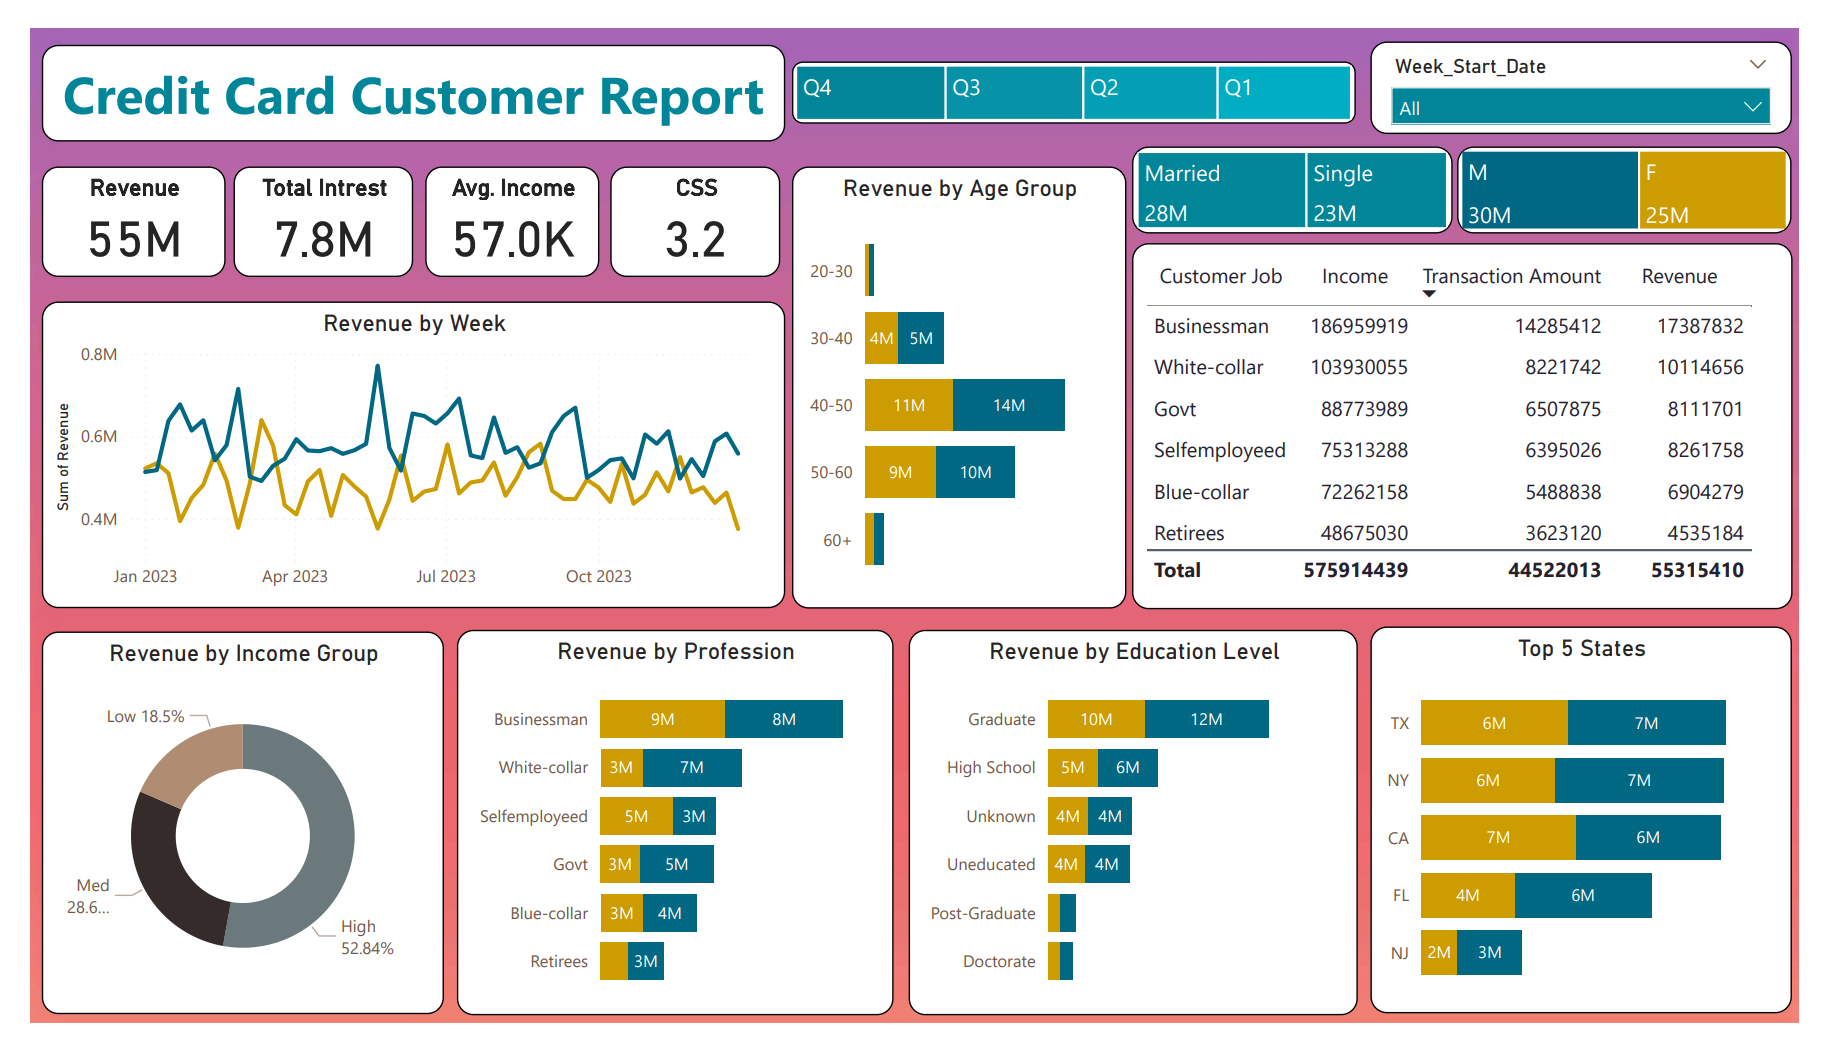

The page's visual inventory and layout, read from the dashboard file:
{"tool":"powerbi","page":{"name":"CC Customer","canvas":[1280,720],"ordinal":2},"visuals":[{"type":"textbox","box":[8.2,12.3,537.9,70],"z":0},{"type":"donutChart","title":"Revenue by Income Group","fields":{"Category":["customer.IncomeGroup","customer.Gender"],"Y":["Sum(credit_card.Revenue)"]},"box":[8.2,436.4,290.9,277.2],"z":1000},{"type":"tableEx","fields":{"Values":["customer.Customer_Job","Sum(customer.Income)","Sum(credit_card.Total_Trans_Amt)","Sum(credit_card.Revenue)"]},"box":[797.3,155.1,477.5,264.8],"z":2000},{"type":"card","title":"Revenue","fields":{"Values":["Sum(credit_card.Revenue)"]},"box":[8.4,100.1,132.7,79.6],"z":3000},{"type":"card","title":"Total Intrest","fields":{"Values":["Sum(credit_card.Interest_Earned)"]},"box":[147.2,99.9,130.3,79.6],"z":4000},{"type":"card","title":"Avg. Income","fields":{"Values":["Avg(customer.Income)"]},"box":[285.4,100.2,126.2,79.6],"z":5000},{"type":"card","title":"CSS","fields":{"Values":["Avg(customer.Cust_Satisfaction_Score)"]},"box":[419.9,100.2,123.5,79.6],"z":6000},{"type":"slicer","fields":{"Values":["credit_card.Week_Start_Date"]},"box":[970.2,9.6,304.6,67],"z":7000},{"type":"treemap","fields":{"Group":["credit_card.Qtr"],"Values":["Avg(credit_card.Client_Num)"]},"box":[551.6,24.7,407.5,45.3],"z":8000},{"type":"lineChart","title":"Revenue by Week","fields":{"Series":["customer.Gender"],"Y":["Sum(credit_card.Revenue)"],"Category":["credit_card.Week_Start_Date.Variation.Date Hierarchy.Year","credit_card.Week_Start_Date.Variation.Date Hierarchy.Month","credit_card.Week_Start_Date.Variation.Date Hierarchy.Day"]},"box":[8.2,197.6,537.9,222.3],"z":9000},{"type":"treemap","fields":{"Group":["customer.Gender"],"Values":["Sum(credit_card.Revenue)"]},"box":[1033.3,85.1,241.5,63.1],"z":10000},{"type":"barChart","title":"Revenue by Age Group","fields":{"Category":["customer.AgeGroup"],"Y":["Sum(credit_card.Revenue)"],"Series":["customer.Gender"]},"box":[551.6,100.2,241.5,319.7],"z":11000},{"type":"barChart","title":"Revenue by Profession","fields":{"Category":["customer.Customer_Job"],"Y":["Sum(credit_card.Revenue)"],"Series":["customer.Gender"]},"box":[308.7,435,315.6,278.6],"z":12000},{"type":"barChart","title":"Revenue by Education Level","fields":{"Category":["customer.Education_Level"],"Y":["Sum(credit_card.Revenue)"],"Series":["customer.Gender"]},"box":[635.3,435,325.2,278.6],"z":13000},{"type":"barChart","title":"Top 5 States","fields":{"Category":["customer.state_cd"],"Y":["Sum(credit_card.Revenue)"],"Series":["customer.Gender"]},"box":[970.2,433.6,304.6,279.9],"z":14000},{"type":"treemap","fields":{"Group":["customer.Marital_Status"],"Values":["Sum(credit_card.Revenue)"]},"box":[797.3,85.1,231.9,63.1],"z":15000}]}

Visuals, with their boxes in screenshot pixels (x1, y1, x2, y2), scaled from the page's 1280x720 canvas onto the 1827x1047 screenshot:
textbox: BBox(12, 18, 779, 120)
"Revenue by Income Group" donutChart: BBox(12, 635, 427, 1038)
tableEx - customer.Customer_Job x Sum(customer.Income): BBox(1138, 226, 1820, 611)
"Revenue" card: BBox(12, 146, 201, 261)
"Total Intrest" card: BBox(210, 145, 396, 261)
"Avg. Income" card: BBox(407, 146, 587, 261)
"CSS" card: BBox(599, 146, 776, 261)
slicer - credit_card.Week_Start_Date: BBox(1385, 14, 1820, 111)
treemap - credit_card.Qtr x Avg(credit_card.Client_Num): BBox(787, 36, 1369, 102)
"Revenue by Week" lineChart: BBox(12, 287, 779, 611)
treemap - customer.Gender x Sum(credit_card.Revenue): BBox(1475, 124, 1820, 216)
"Revenue by Age Group" barChart: BBox(787, 146, 1132, 611)
"Revenue by Profession" barChart: BBox(441, 633, 891, 1038)
"Revenue by Education Level" barChart: BBox(907, 633, 1371, 1038)
"Top 5 States" barChart: BBox(1385, 631, 1820, 1038)
treemap - customer.Marital_Status x Sum(credit_card.Revenue): BBox(1138, 124, 1469, 216)
